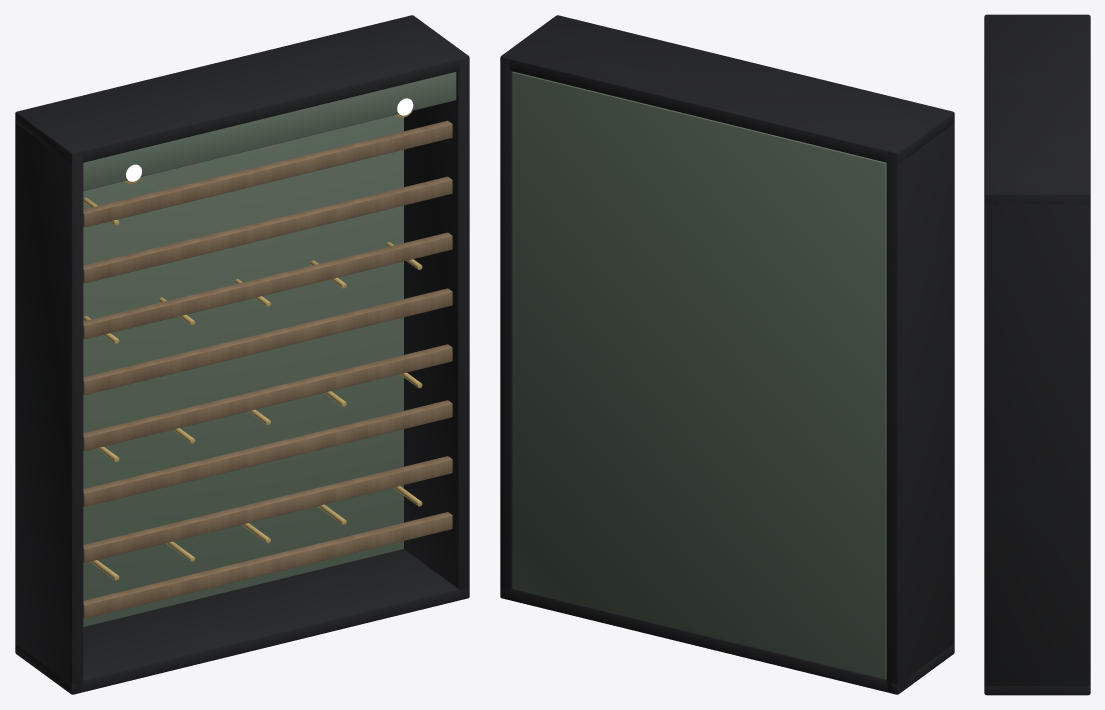
File: pf_display_hat_wall_t3.glb
3 renders of one model, left to right at view 1: azimuth 30°, elevation 25°; view 2: azimuth 150°, elevation 25°; view 3: azimuth 270°, elevation 25°, orthographic. The views are drawn at different scales.
Visible parts, largest first — view 1: Case_Back, Case_Left, Case_Top, Case_Right, Case_Base, Header_Back, Slat_04, Slat_01, Slat_05, Slat_02, Slat_06, Slat_07 (+2 smaller); view 2: Case_Back, Case_Left, Case_Top, Case_Right, Case_Base; view 3: Case_Right, Case_Top, Case_Base.
Part boxes in pixels (<box>): Case_Back: <box>83,115,403,626</box>; Case_Left: <box>15,119,83,693</box>; Case_Top: <box>15,15,469,163</box>; Case_Right: <box>404,57,469,600</box>; Case_Base: <box>15,549,469,694</box>; Header_Back: <box>83,72,456,190</box>; Slat_04: <box>83,344,452,450</box>; Slat_01: <box>83,512,452,618</box>; Slat_05: <box>83,288,452,394</box>; Slat_02: <box>83,456,452,562</box>; Slat_06: <box>83,232,452,339</box>; Slat_07: <box>83,176,452,283</box>; Case_Back: <box>512,71,886,679</box>; Case_Left: <box>886,123,954,694</box>; Case_Top: <box>500,15,954,163</box>; Case_Right: <box>500,59,512,600</box>; Case_Base: <box>500,588,954,694</box>; Case_Right: <box>984,193,1090,693</box>; Case_Top: <box>984,14,1090,204</box>; Case_Base: <box>984,685,1090,695</box>.
Bounding box in the file's own units: 1.6 × 2.08 × 0.4.
6 materials, 2 textured.
